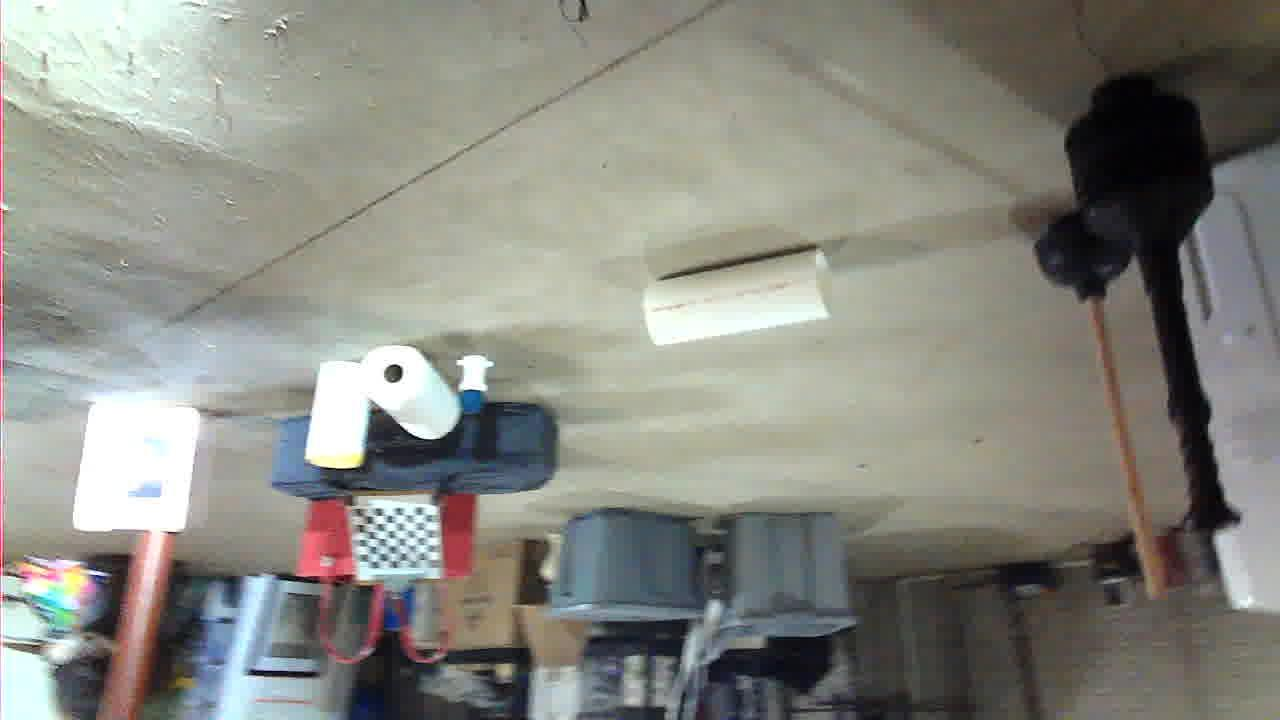coral: (453, 372, 635, 471)
